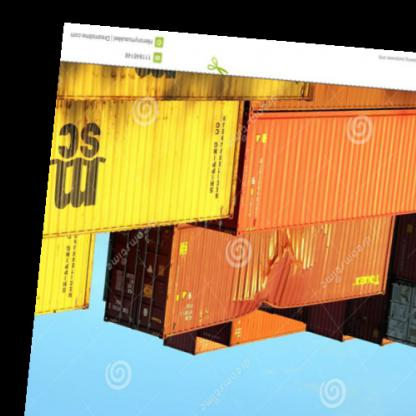Damage: (233, 238, 316, 318)
